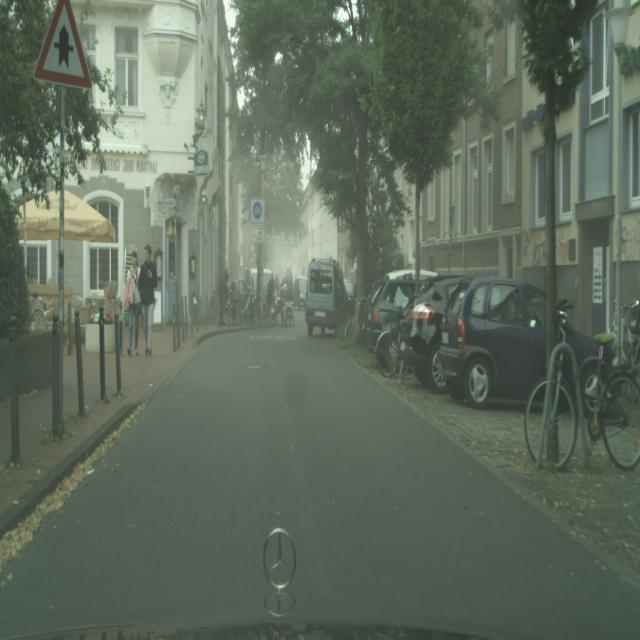bus: (272, 291, 295, 326)
car: (523, 301, 640, 475)
person: (138, 244, 158, 357), (124, 256, 140, 356), (217, 264, 231, 325), (279, 265, 294, 321), (266, 272, 278, 322)
truck: (436, 276, 573, 409), (397, 274, 471, 391), (364, 269, 438, 351), (305, 257, 351, 338), (293, 274, 308, 309)
